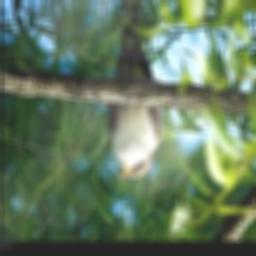Cuckoo: (109, 0, 161, 180)
